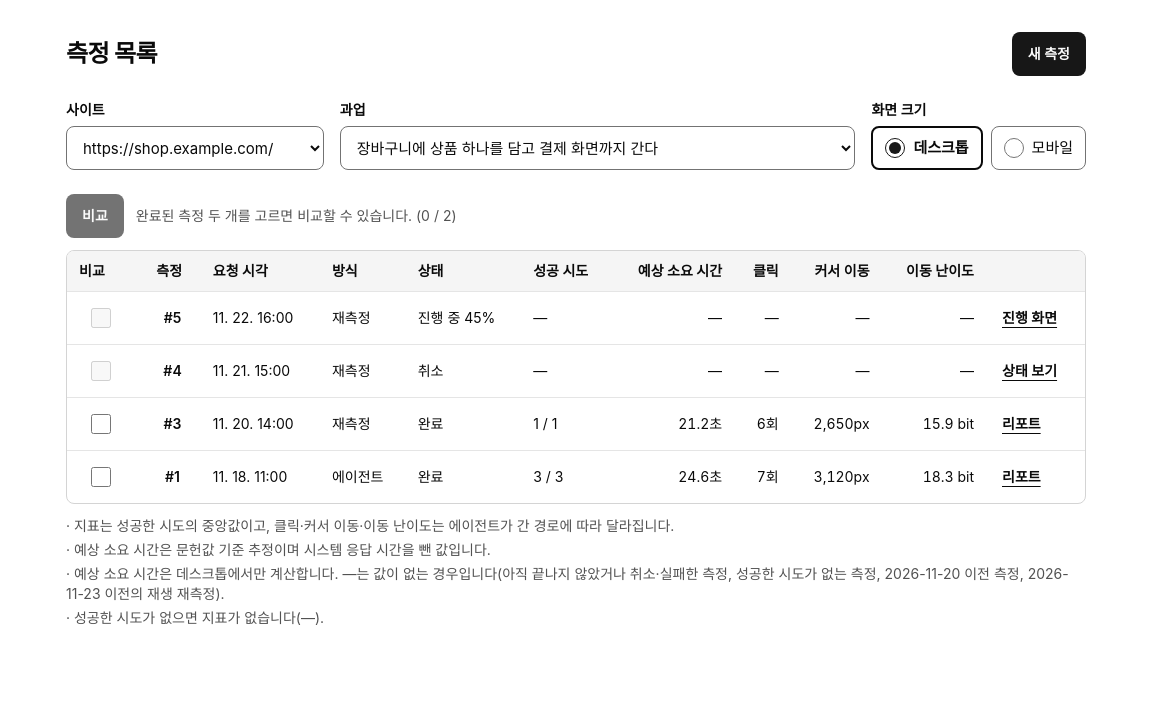
측정이 없는 과업을 고르면 빈 안내와 새 측정 링크
Expected: the column heading "#5" is shown, x1=144 y1=292 x2=201 y2=344
Select "가장 싼 요금제를 찾아 신청 화면까지 간다" in the dropdown labelled "과업". click: (598, 148)
box: x1=340 y1=126 x2=855 y2=170
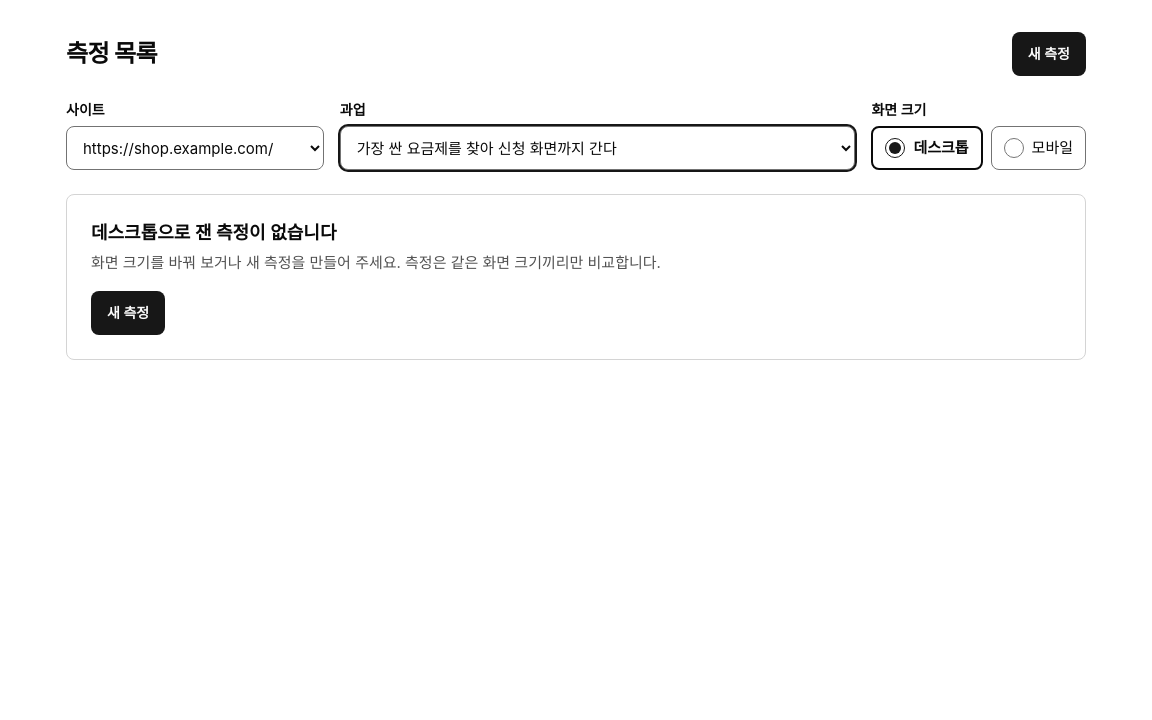
Now the text "데스크톱으로 잰 측정이 없습니다" is shown, box x1=91 y1=222 x2=336 y2=243
